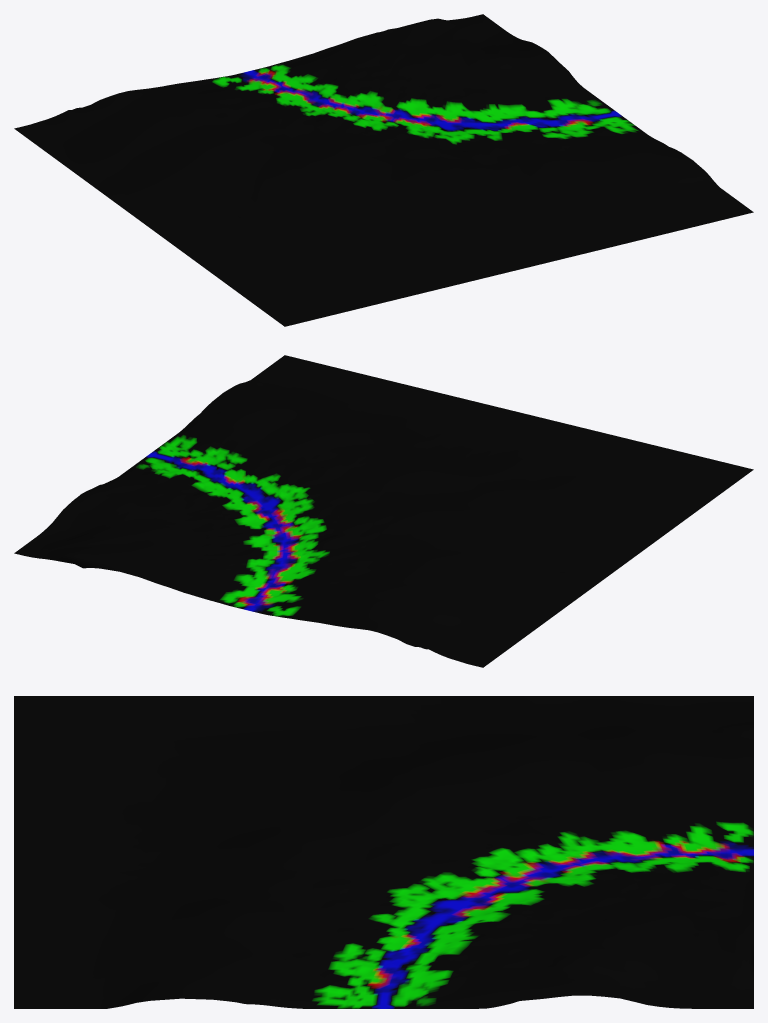
Rendered from Terrain_LoopForest_Distance_C_02.fbx.
3 views of the same model, one above another, from view 1: azimuth 30°, elevation 25°; view 2: azimuth 150°, elevation 25°; view 3: azimuth 270°, elevation 25° (orthographic). The views are drawn at different scales.
Visible parts, largest first — view 1: Terrain_LoopForest_Distance_C_02; view 2: Terrain_LoopForest_Distance_C_02; view 3: Terrain_LoopForest_Distance_C_02.
Boxes of the visible parts, <box> form: Terrain_LoopForest_Distance_C_02: <box>14,14,753,326</box>; Terrain_LoopForest_Distance_C_02: <box>14,355,753,667</box>; Terrain_LoopForest_Distance_C_02: <box>14,696,753,1008</box>.
Bounding box in the file's own units: 30000 × 1055 × 30000.
